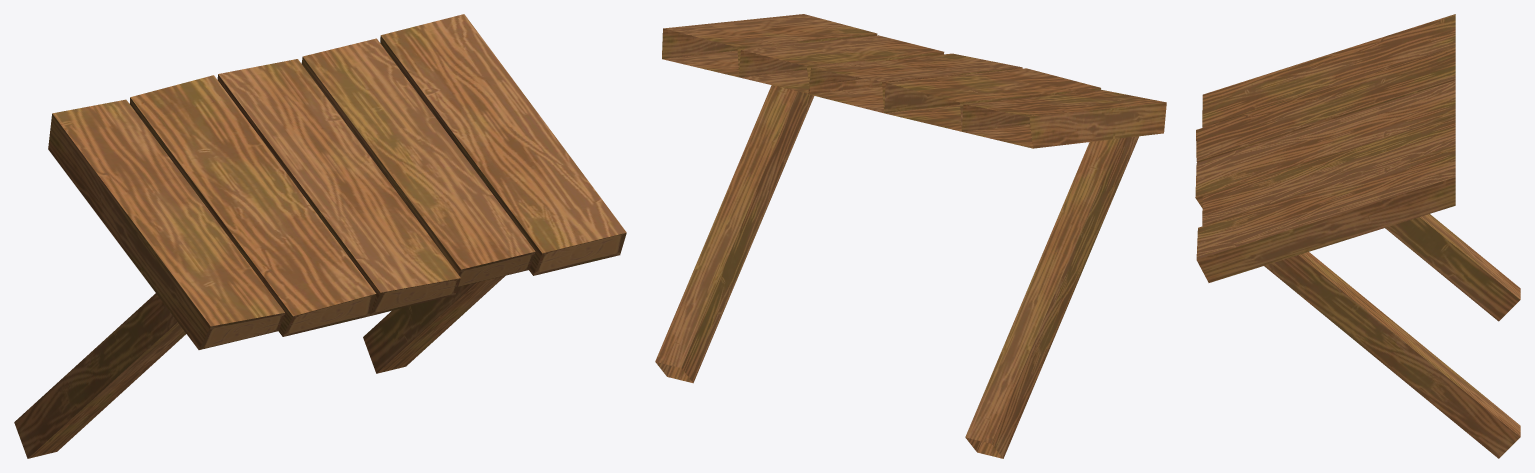
File: Window_Roof_Wide.glb
3 views of the same model, side by side, from view 1: azimuth 30°, elevation 25°; view 2: azimuth 150°, elevation 25°; view 3: azimuth 270°, elevation 25° (orthographic). The views are drawn at different scales.
Visible parts, largest first — view 1: Window_Roof_Wide; view 2: Window_Roof_Wide; view 3: Window_Roof_Wide.
Part boxes in pixels (left/top/right/bottom): Window_Roof_Wide: left=14, top=14, right=626, bottom=458; Window_Roof_Wide: left=655, top=14, right=1166, bottom=458; Window_Roof_Wide: left=1195, top=14, right=1520, bottom=458.
Bounding box in the file's own units: 1.42 × 1.18 × 1.18.
1 material, 1 textured.
